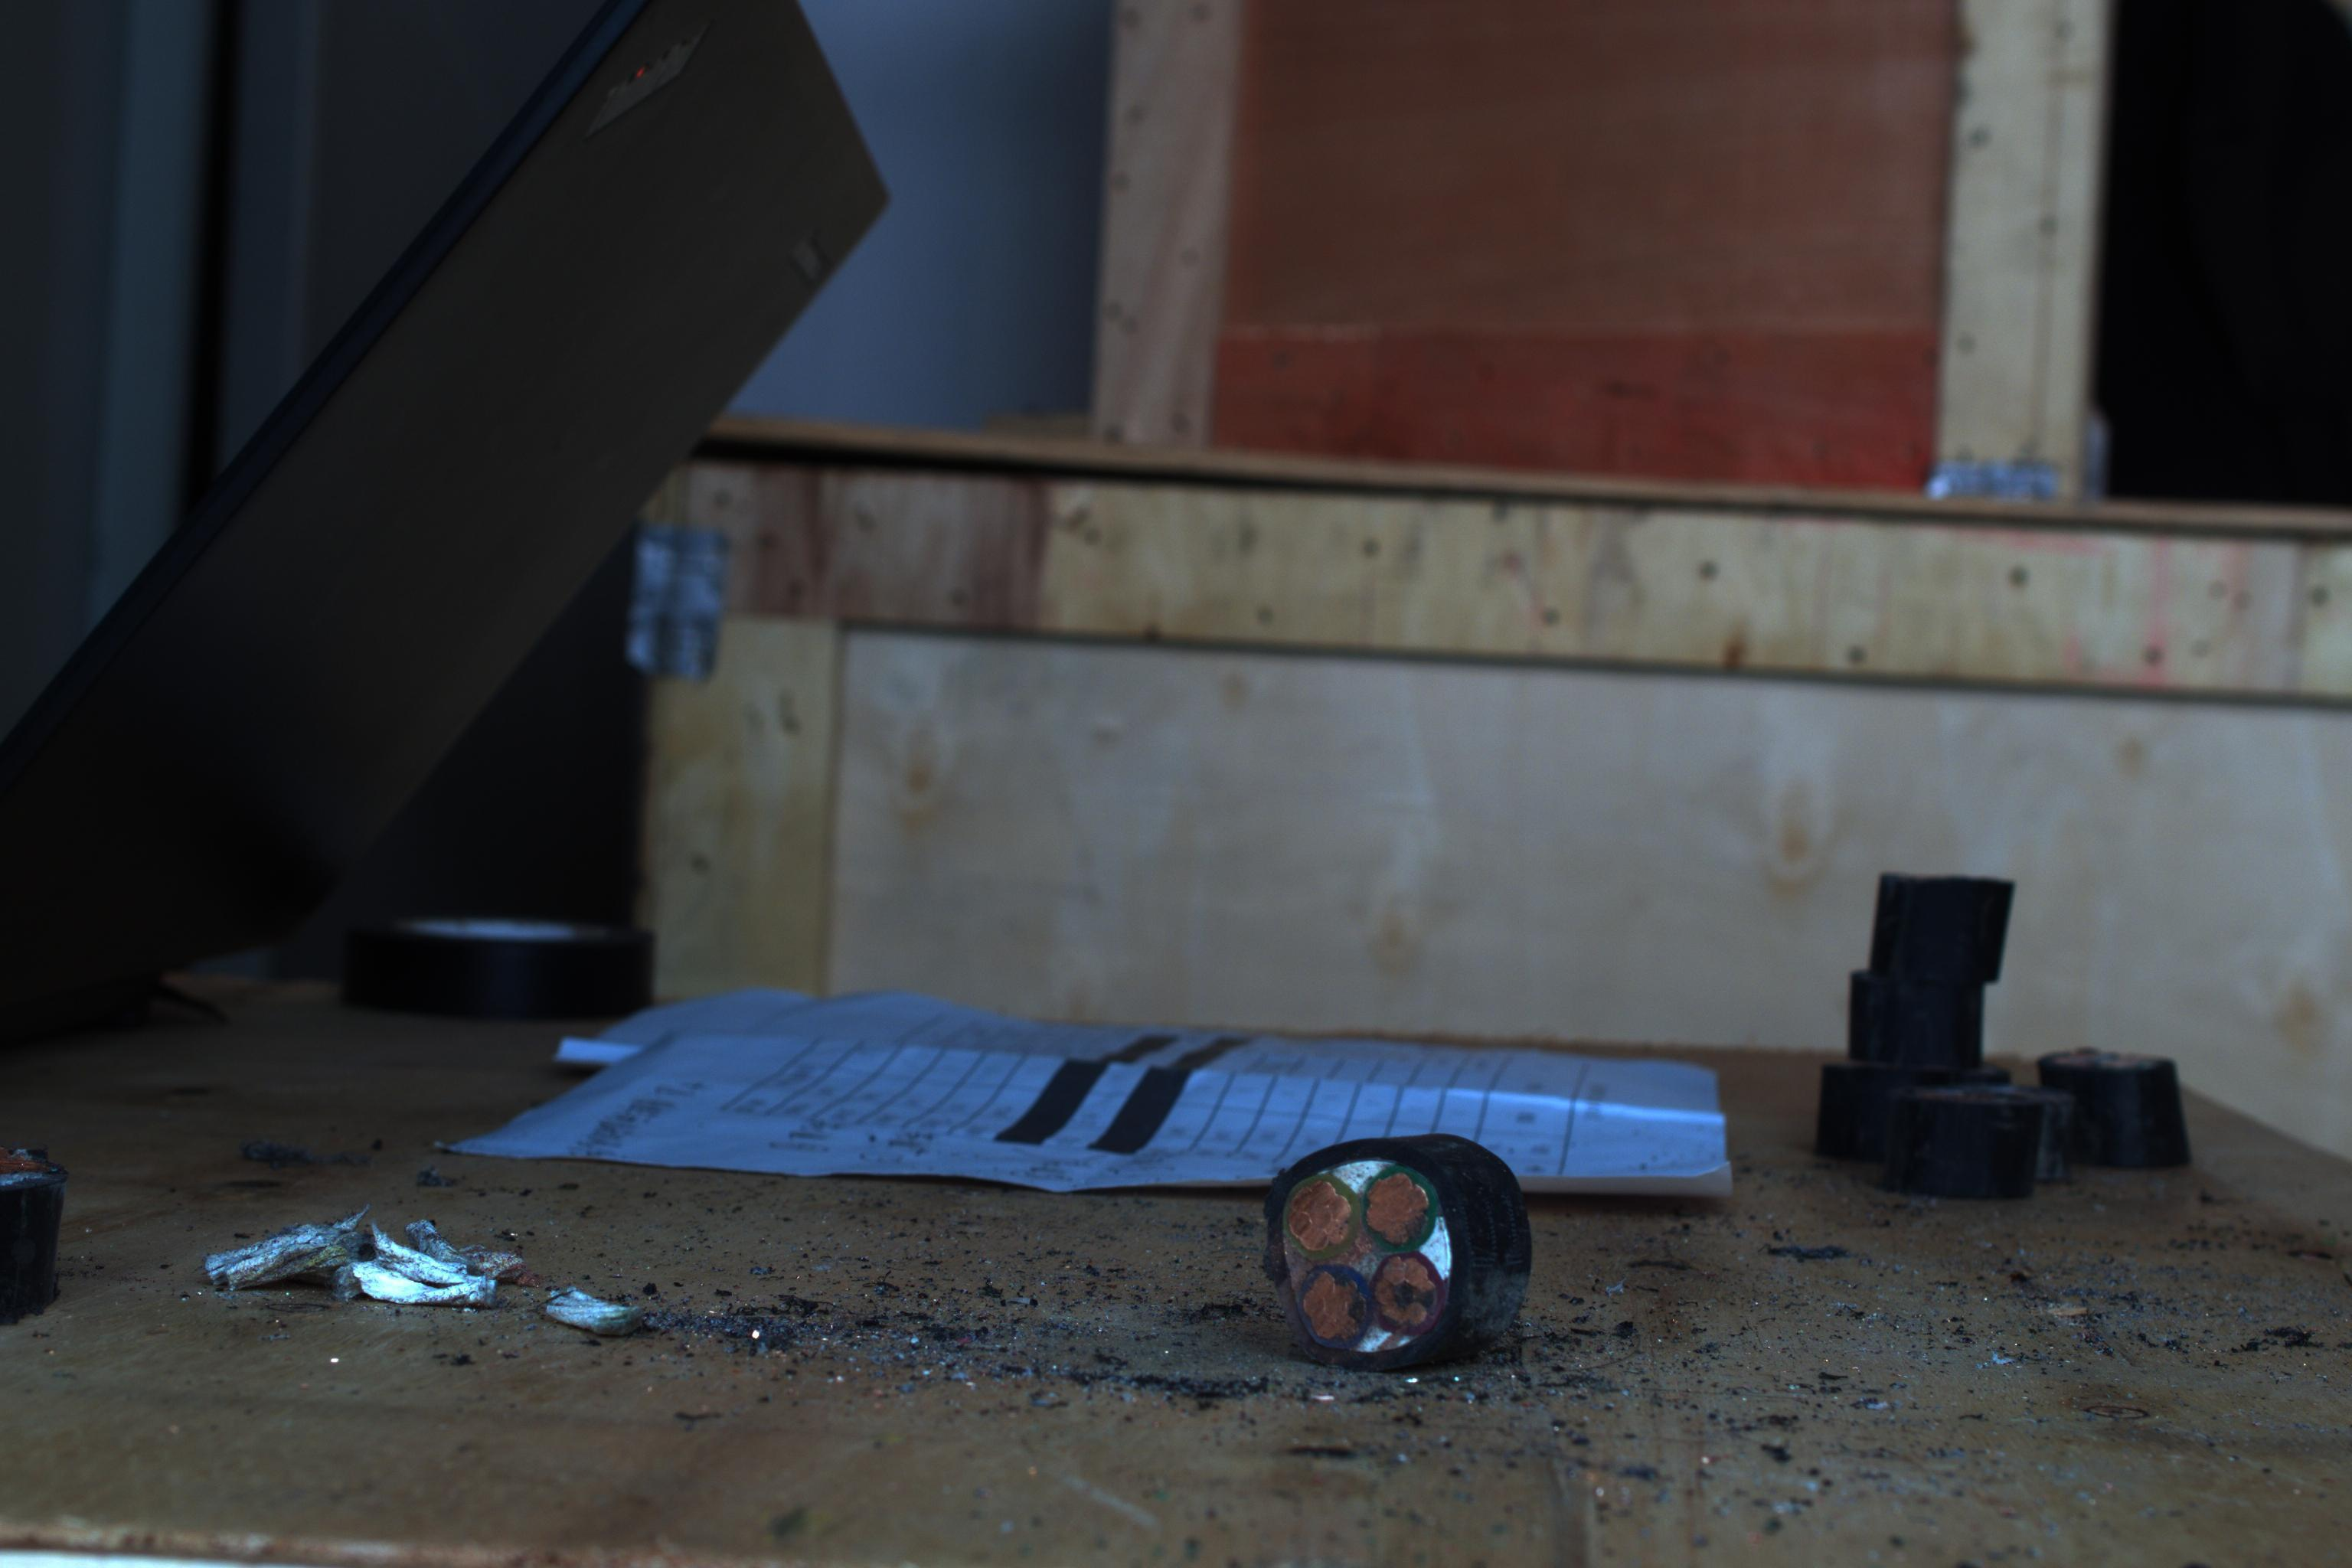YJV_0.6_1kV_4x35: (1251, 1123, 1473, 1347)
